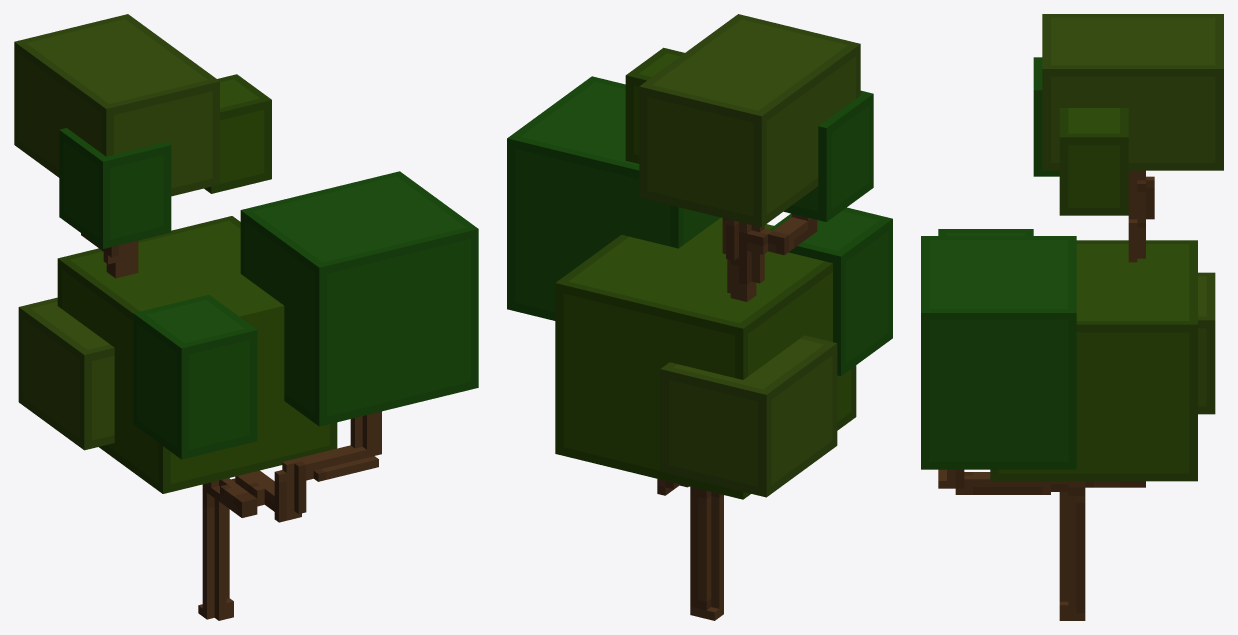
Rendered from Arbol02.obj.
The picture shows the model from 3 angles, left to right: view 1: azimuth 30°, elevation 25°; view 2: azimuth 150°, elevation 25°; view 3: azimuth 270°, elevation 25°; orthographic projection. The views are drawn at different scales.
Visible parts, largest first — view 1: arbol4sec1escenario_nivel_1arbol1_0_Mesh181; view 2: arbol4sec1escenario_nivel_1arbol1_0_Mesh181; view 3: arbol4sec1escenario_nivel_1arbol1_0_Mesh181.
Part boxes in pixels (x1,y1,x2,y2): arbol4sec1escenario_nivel_1arbol1_0_Mesh181: (14, 14, 478, 620); arbol4sec1escenario_nivel_1arbol1_0_Mesh181: (507, 14, 892, 620); arbol4sec1escenario_nivel_1arbol1_0_Mesh181: (921, 14, 1223, 620).
Bounding box in the file's own units: 4.2 × 6.9 × 3.5.
